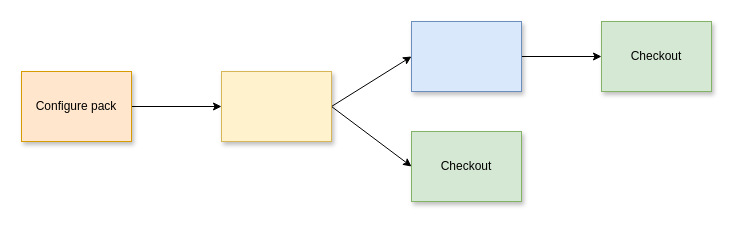
The diagram is 735 pixels wide and 226 high, and some of its shapes have lost their labels. Here are the shapes that lost their labels. From the top down, the centre of each, then its label:
At pixel 467 57: "View Cart".
At pixel 277 107: "Add To Cart".
